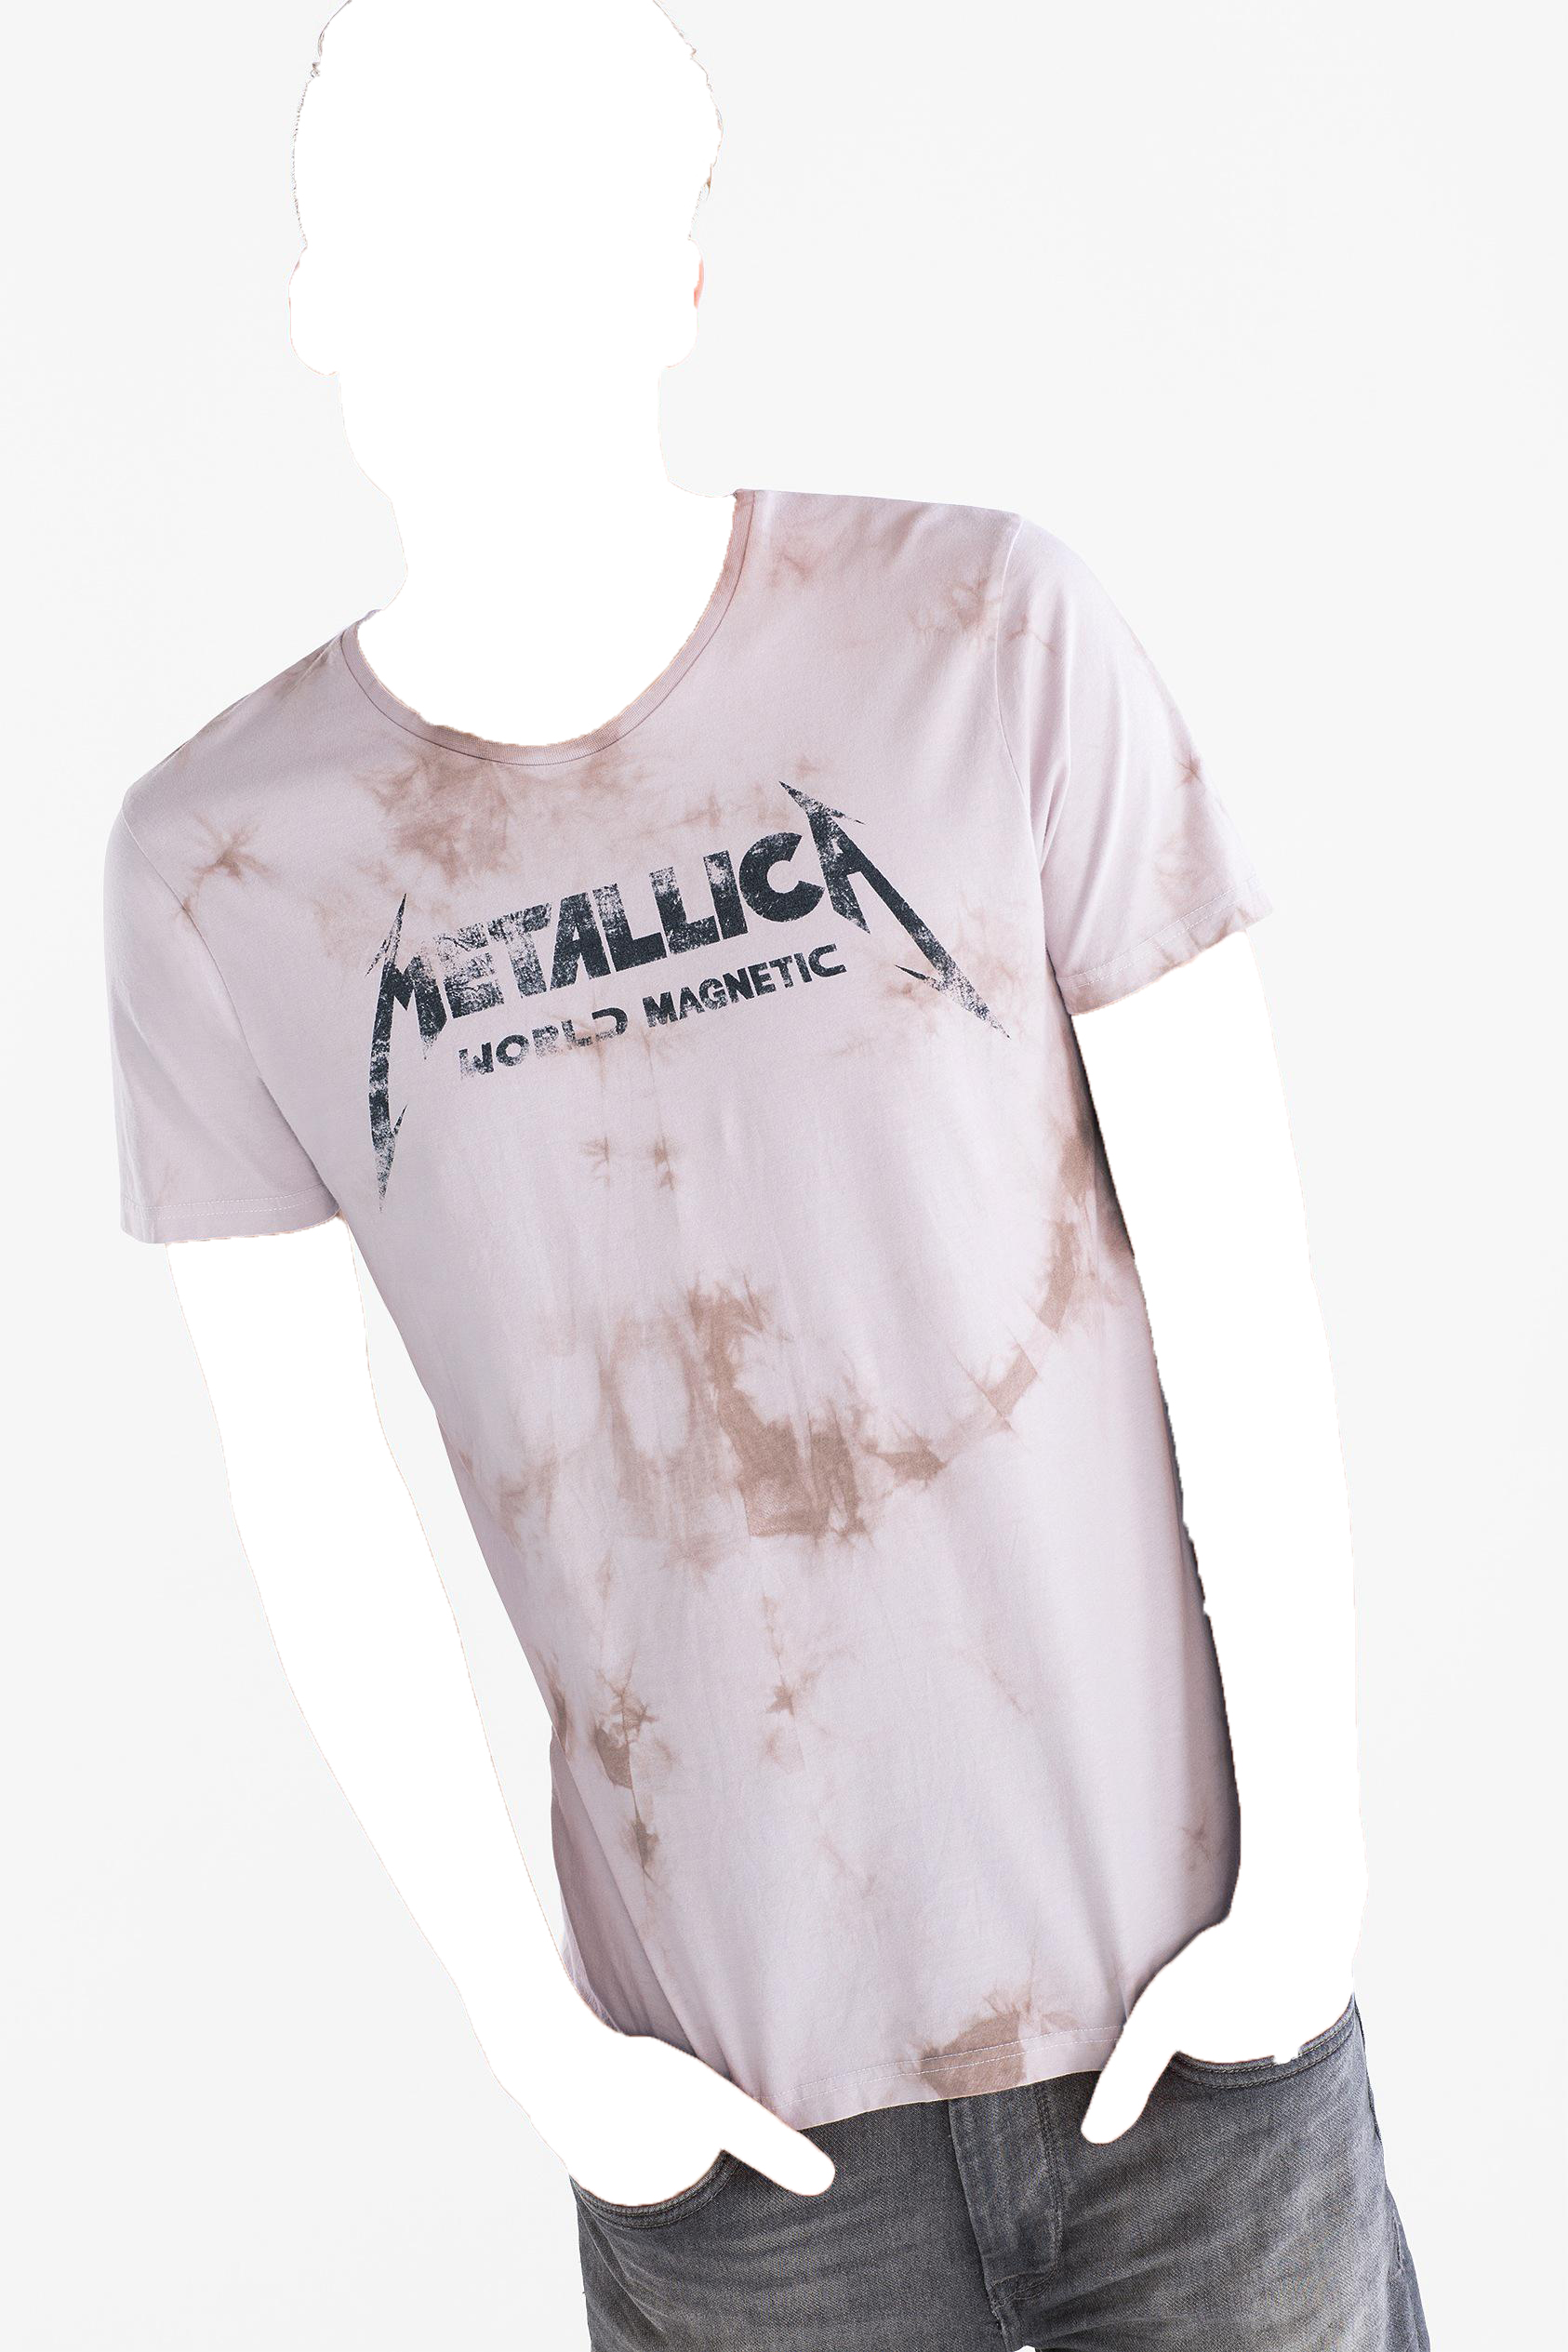teeshirt: (84, 490, 1362, 2117)
